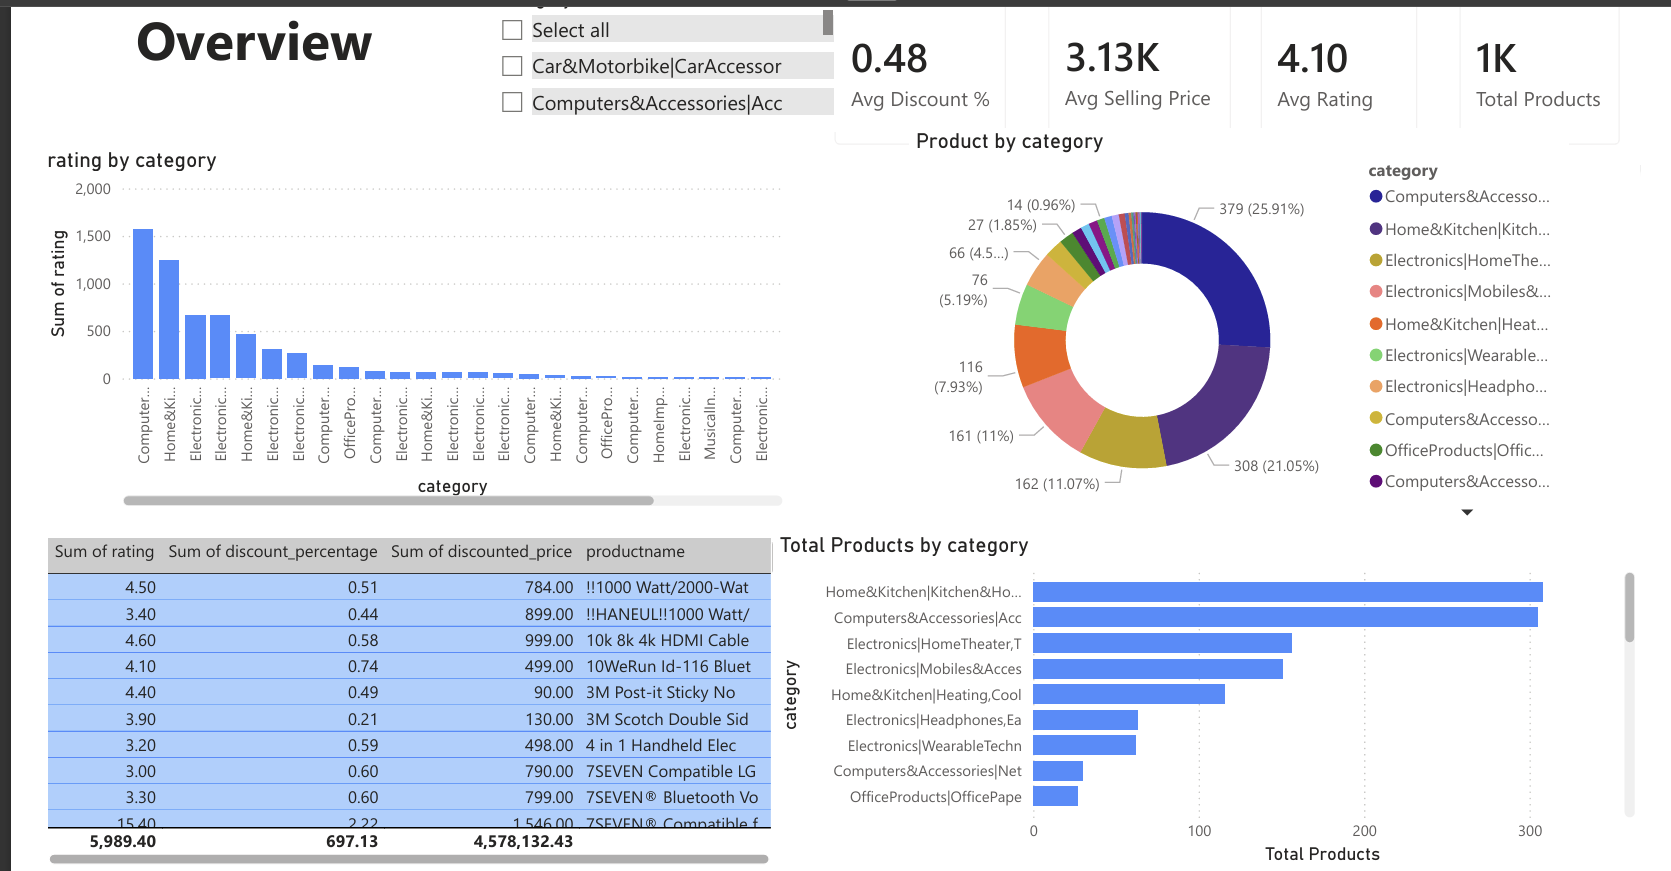

What the dashboard file says about the page in this screenshot:
{"tool":"powerbi","page":{"name":"Page 1","canvas":[1280,720],"ordinal":0},"visuals":[{"type":"cardVisual","fields":{"Data":["amazon.Total Products"]},"box":[1118.3,0,162,156.3],"z":0},{"type":"cardVisual","fields":{"Data":["amazon.Avg Rating"]},"box":[959.1,0,159.1,156.3],"z":1},{"type":"cardVisual","fields":{"Data":["amazon.Avg Selling Price"]},"box":[788.5,0,180.6,154.8],"z":2},{"type":"cardVisual","fields":{"Data":["amazon.Avg Discount %"]},"box":[617.9,0,170.6,156.3],"z":3},{"type":"tableEx","fields":{"Values":["Sum(amazon.rating)","Sum(amazon.discount_percentage)","Sum(amazon.discounted_price)","amazon.productname"]},"box":[0,448.7,597.9,271],"z":4},{"type":"actionButton","box":[0,0,100,40],"z":5},{"type":"donutChart","title":"Product by category","fields":{"Category":["amazon.category"],"Y":["amazon.Productcount"]},"box":[695.3,126.2,527.6,319.7],"z":7},{"type":"clusteredBarChart","fields":{"Category":["amazon.category"],"Y":["amazon.Total Products"]},"box":[586.4,448.7,693.9,271],"z":8},{"type":"slicer","fields":{"Values":["amazon.category"]},"box":[355.6,8.6,283.9,120.4],"z":9},{"type":"columnChart","title":" rating by category","fields":{"Category":["amazon.category"],"Y":["Sum(amazon.rating)"]},"box":[0,140.5,597.9,292.5],"z":10},{"type":"textbox","box":[0,20.1,341.2,120.4],"z":11}]}

Visuals, with their boxes on the page's 1280x720 design canvas (x1, y1, x2, y2). These are canvas units, not pixel positions in the 1671x871 screenshot, which may show the page scaled, cropped or inside an application window:
cardVisual - amazon.Total Products: 1118/0/1280/156
cardVisual - amazon.Avg Rating: 959/0/1118/156
cardVisual - amazon.Avg Selling Price: 788/0/969/155
cardVisual - amazon.Avg Discount %: 618/0/788/156
tableEx - Sum(amazon.rating) x Sum(amazon.discount_percentage): 0/449/598/720
actionButton: 0/0/100/40
"Product by category" donutChart: 695/126/1223/446
clusteredBarChart - amazon.category x amazon.Total Products: 586/449/1280/720
slicer - amazon.category: 356/9/640/129
" rating by category" columnChart: 0/140/598/433
textbox: 0/20/341/140
